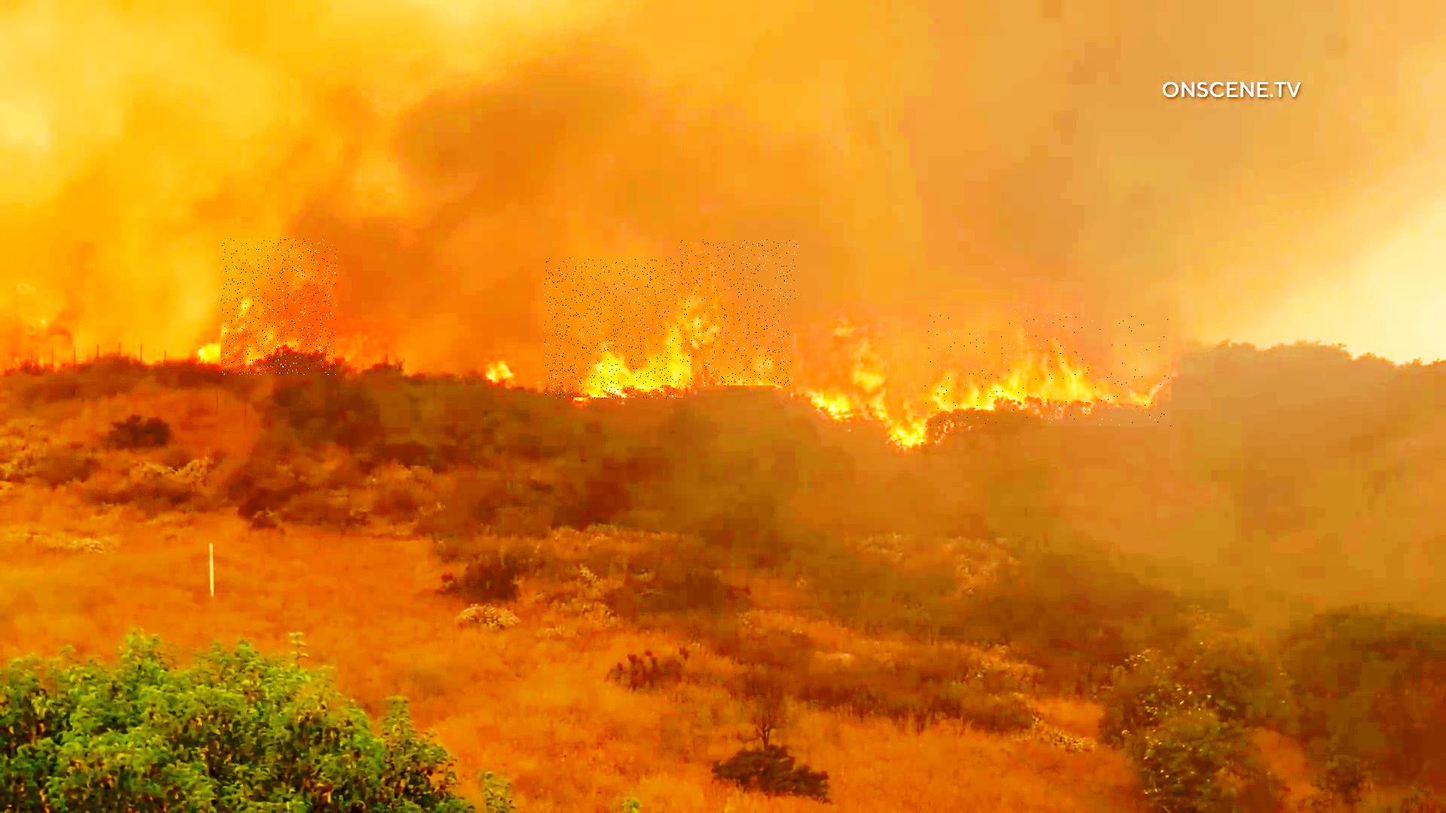fire: (921, 311, 1171, 426), (545, 258, 683, 400), (678, 240, 800, 387), (221, 239, 337, 376), (792, 304, 921, 420)
